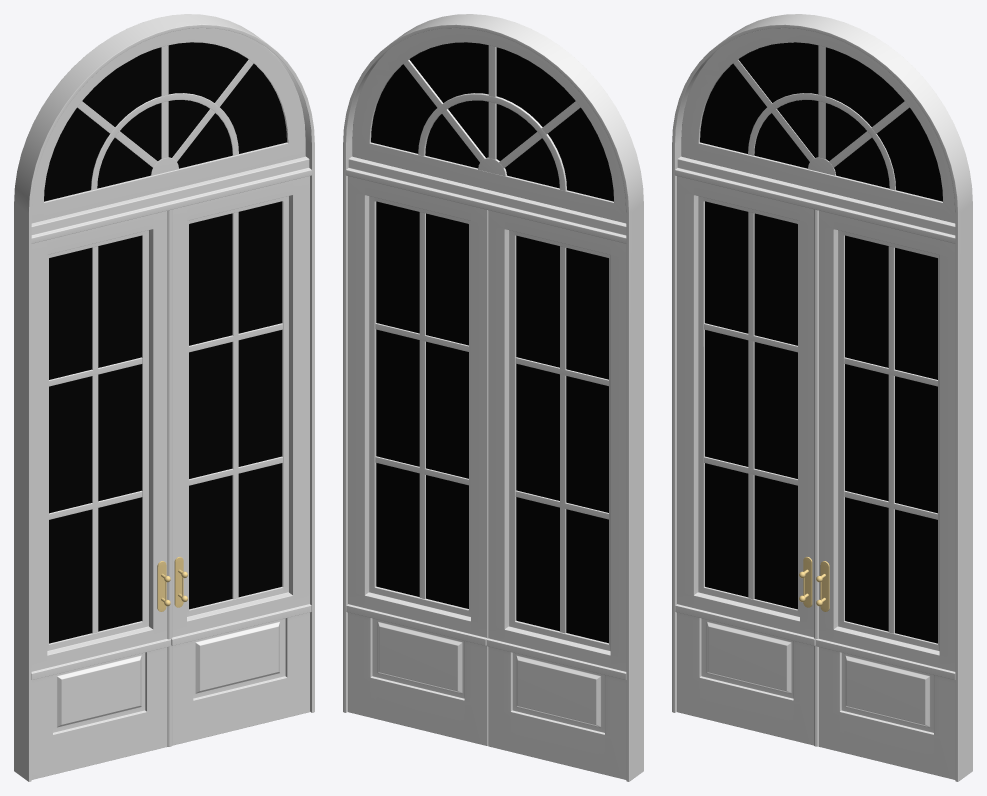
The model's file is MEGA_PACK_door__ROUND-WHITE-DOOR-White.glb.
3 renders of one model, left to right at view 1: azimuth 30°, elevation 25°; view 2: azimuth 150°, elevation 25°; view 3: azimuth 330°, elevation 25°, orthographic.
Visible parts, largest first — view 1: ROUND-WHITE-DOOR-White; view 2: ROUND-WHITE-DOOR-White; view 3: ROUND-WHITE-DOOR-White.
Part boxes in pixels (x1,y1,x2,y2): ROUND-WHITE-DOOR-White: [14, 14, 314, 781]; ROUND-WHITE-DOOR-White: [343, 14, 643, 781]; ROUND-WHITE-DOOR-White: [672, 14, 972, 781].
Bounding box in the file's own units: 1 × 2.4 × 0.1253.
1 material, 1 textured.
